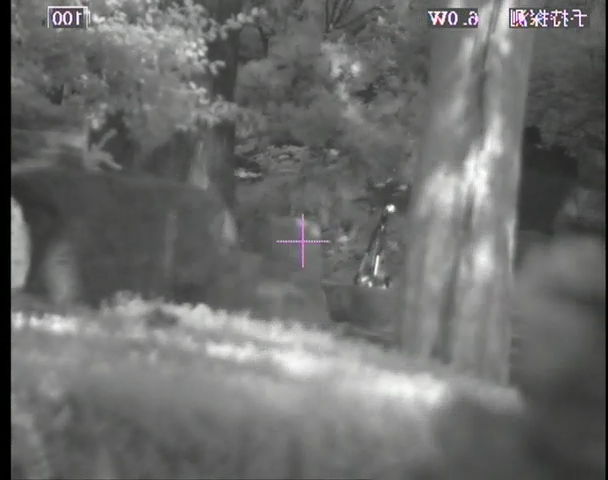my: (384, 203, 395, 214)
